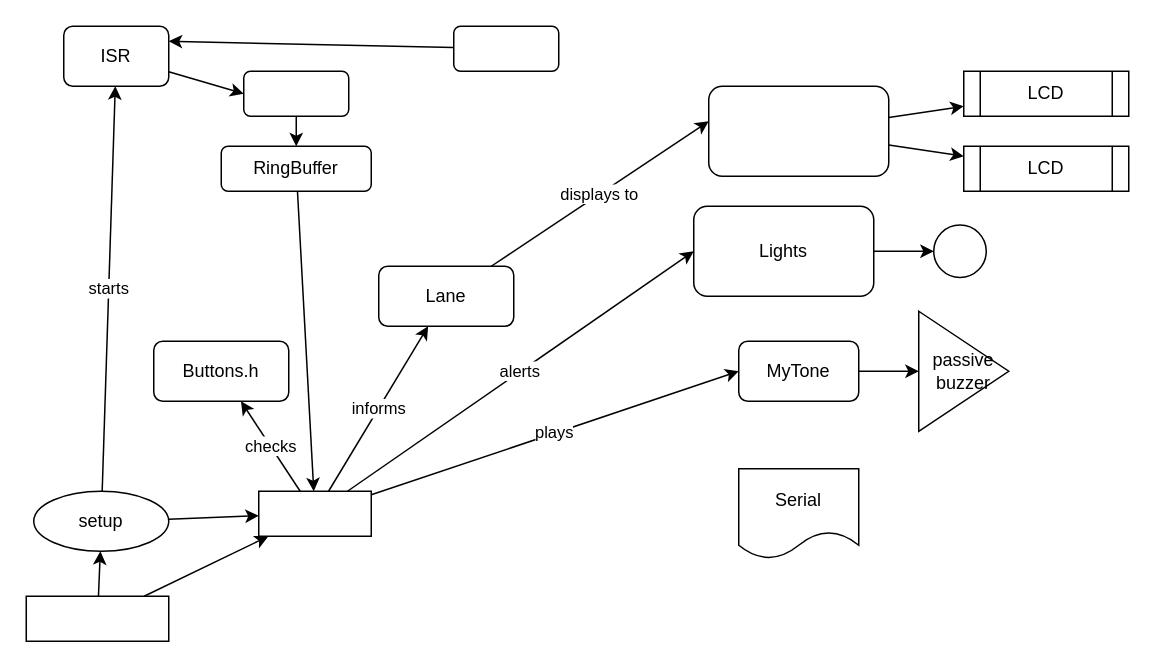
The diagram is 1155 pixels wide and 668 high, and some of its shapes have lost their labels. The shapes that lost their labels are listed below. From the top down, each one's centre as x and y in pixels, then its label:
At (x=505, y=48): "Sensor".
At (x=295, y=93): "Detection".
At (x=798, y=130): "MyLCD".
At (x=959, y=251): "LED".
At (x=314, y=513): "loop".
At (x=97, y=618): "VroomRacer".
